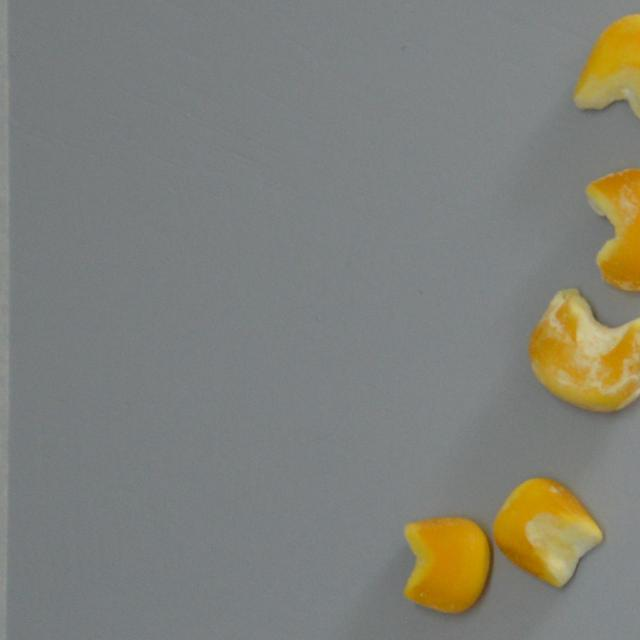no_canjicado: (492, 475, 604, 588), (402, 516, 490, 614), (572, 12, 640, 126)
pelicula: (526, 288, 640, 414), (586, 166, 640, 290)
